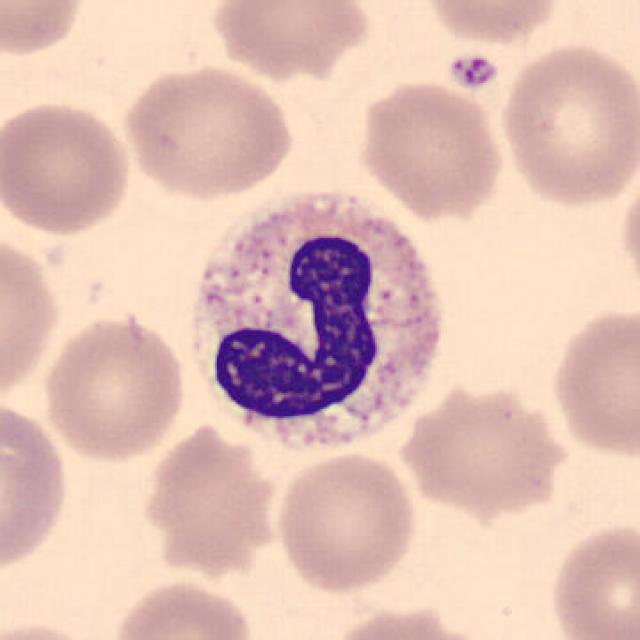Neutrophil: (183, 182, 459, 467)
Platelets: (446, 51, 502, 92)
RBC: (117, 60, 297, 201), (494, 38, 638, 212), (397, 379, 570, 520), (137, 418, 283, 580), (39, 308, 190, 464), (270, 448, 422, 596), (354, 78, 506, 222), (0, 97, 137, 240), (546, 300, 640, 463), (206, 0, 375, 81), (0, 393, 73, 580), (544, 518, 640, 640), (0, 227, 64, 409), (106, 575, 258, 640), (418, 0, 567, 48), (322, 603, 490, 640), (0, 0, 89, 60), (615, 160, 640, 305), (0, 617, 112, 640)
